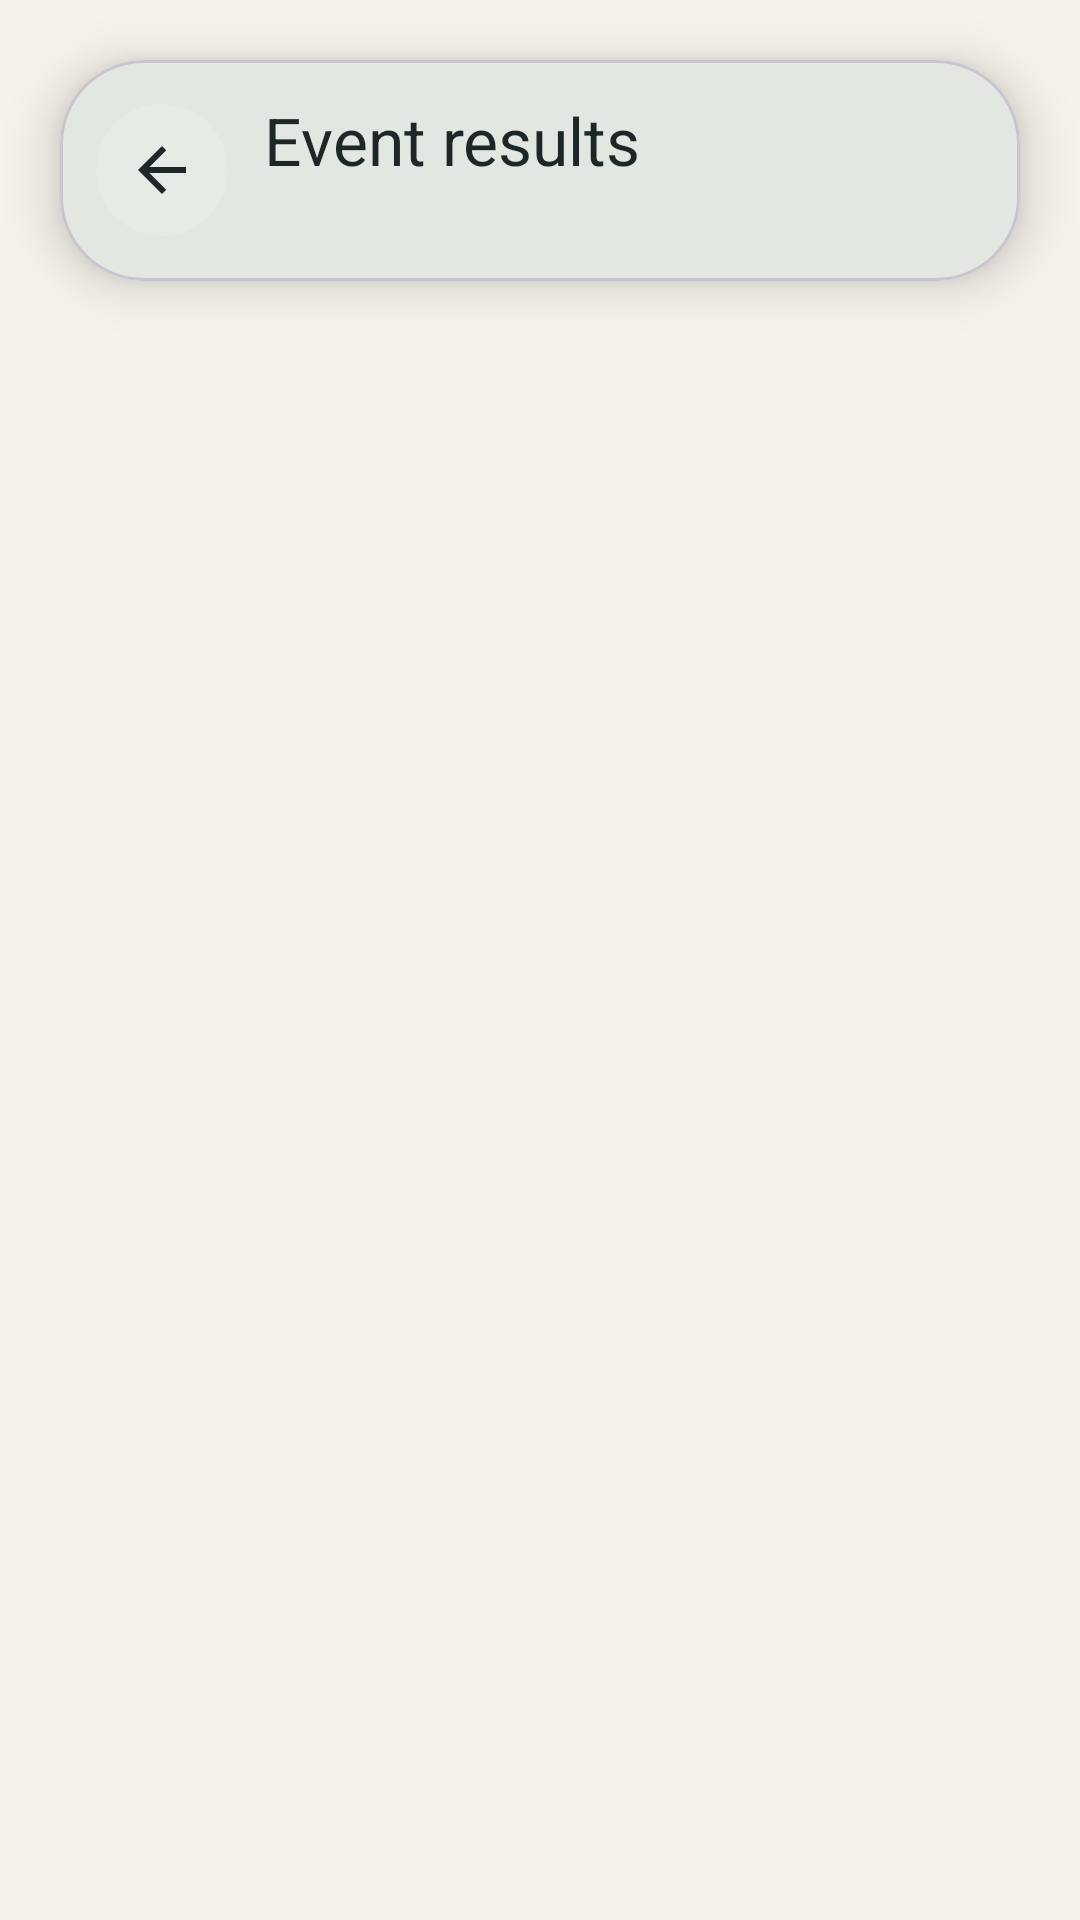

Icon click points for this 1080 × 1920 phone screenshot, format point (x, y):
Back: point (162, 170)
